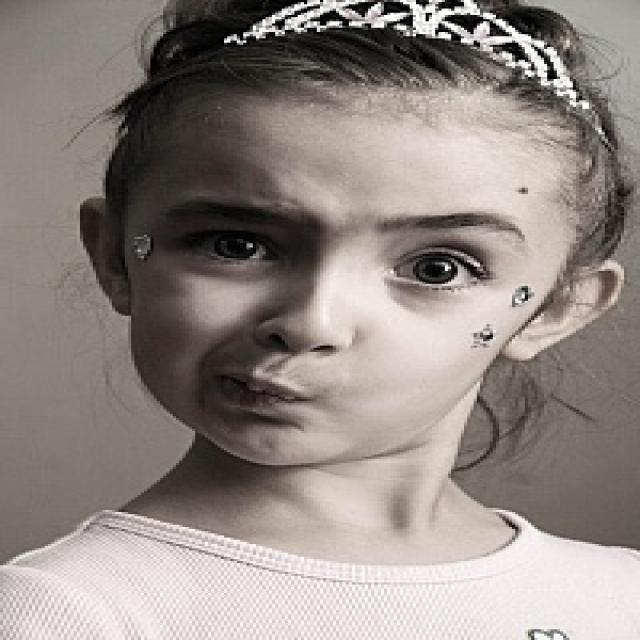Eyes: (158, 190, 532, 300)
